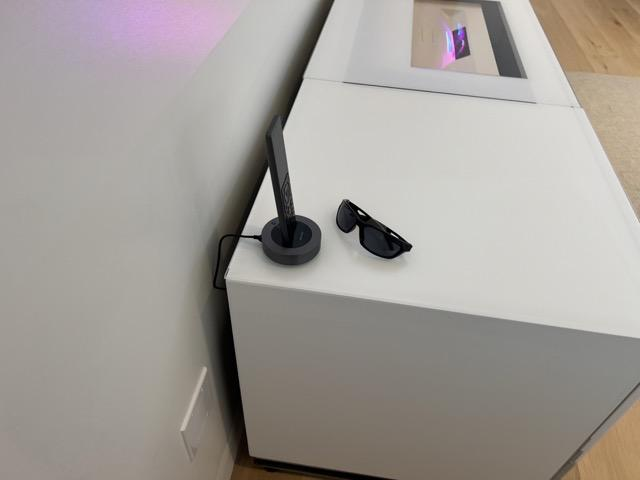Sunglasses: (335, 196, 414, 262)
